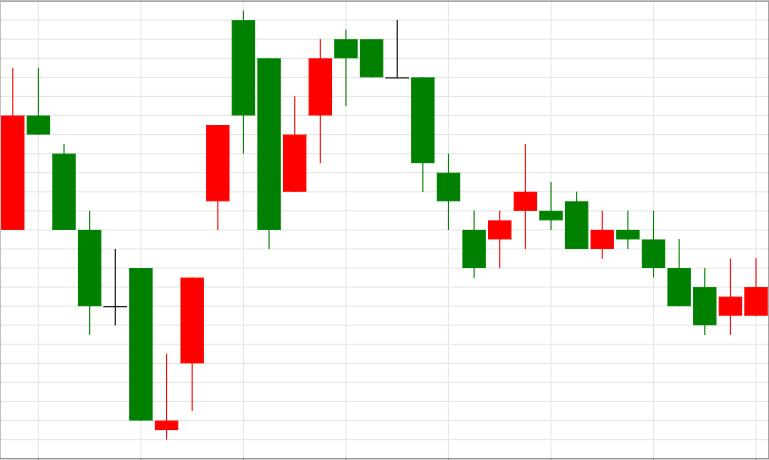morning_star_rise: (27, 68, 204, 439)
